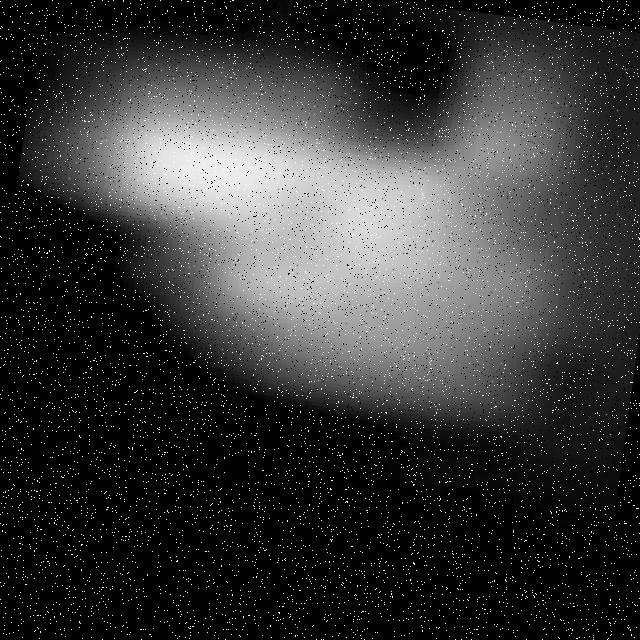person: (23, 2, 603, 460)
